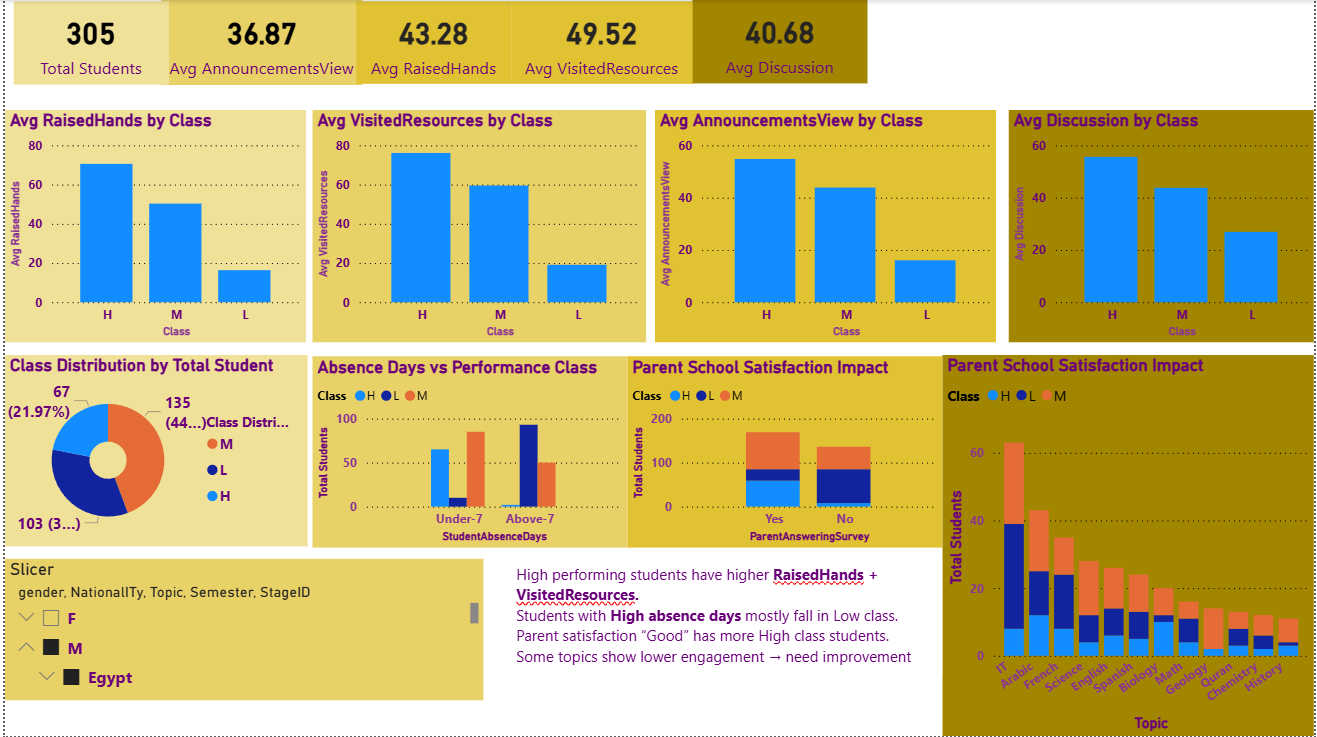

This screenshot's page, from the dashboard's own definition file:
{"tool":"powerbi","page":{"name":"Page 1","canvas":[1280,720],"ordinal":0},"visuals":[{"type":"card","fields":{"Values":["task 3 dataset.Avg AnnouncementsView"]},"box":[152.9,0,196.9,83.2],"z":0},{"type":"card","fields":{"Values":["task 3 dataset.Total Students"]},"box":[8.6,1.2,151.6,81.9],"z":1000},{"type":"card","fields":{"Values":["task 3 dataset.Avg RaisedHands"]},"box":[343.6,1.2,151.6,80.7],"z":2000},{"type":"card","fields":{"Values":["task 3 dataset.Avg VisitedResources"]},"box":[495.2,1.2,177.3,80.7],"z":3000},{"type":"card","fields":{"Values":["task 3 dataset.Avg Discussion"]},"box":[672.6,0,171.2,81.9],"z":4000},{"type":"columnChart","fields":{"Y":["task 3 dataset.Avg RaisedHands"],"Category":["task 3 dataset.Class"]},"box":[0,107.6,294.7,227.4],"z":5000},{"type":"columnChart","fields":{"Y":["task 3 dataset.Avg VisitedResources"],"Category":["task 3 dataset.Class"]},"box":[300.8,107.6,326.5,227.4],"z":7000},{"type":"columnChart","fields":{"Y":["task 3 dataset.Avg AnnouncementsView"],"Category":["task 3 dataset.Class"]},"box":[635.9,107.6,333.8,227.4],"z":8000},{"type":"columnChart","fields":{"Y":["task 3 dataset.Avg Discussion"],"Category":["task 3 dataset.Class"]},"box":[981.9,107.6,298.4,227.4],"z":9000},{"type":"clusteredColumnChart","title":"Absence Days vs Performance Class","fields":{"Category":["task 3 dataset.StudentAbsenceDays"],"Series":["task 3 dataset.Class"],"Y":["task 3 dataset.Total Students"]},"box":[300.8,348.5,308.2,187.1],"z":10000},{"type":"columnChart","title":"Parent School Satisfaction Impact","fields":{"Category":["task 3 dataset.ParentAnsweringSurvey"],"Series":["task 3 dataset.Class"],"Y":["task 3 dataset.Total Students"]},"box":[609,348.5,308.2,187.1],"z":11000},{"type":"columnChart","title":"Parent School Satisfaction Impact","fields":{"Category":["task 3 dataset.Topic"],"Y":["task 3 dataset.Total Students"],"Series":["task 3 dataset.Class"]},"box":[917.1,347.3,363.2,373],"z":12000},{"type":"donutChart","title":"Class Distribution by Total Student","fields":{"Category":["task 3 dataset.Class"],"Y":["task 3 dataset.Total Students"]},"box":[0,347.3,295.9,187.1],"z":12500},{"type":"slicer","title":"Slicer","fields":{"Values":["task 3 dataset.gender","task 3 dataset.NationalITy","task 3 dataset.Topic","task 3 dataset.Semester","task 3 dataset.StageID"]},"box":[0,546.6,468.3,138.2],"z":12501},{"type":"textbox","box":[495.2,546.6,421.9,113.7],"z":12502}]}

Visuals, with their boxes in screenshot pixels (x1, y1, x2, y2), scaled from the page's 1280x720 canvas onto the 1317x737 screenshot:
card - task 3 dataset.Avg AnnouncementsView: <bbox>157, 0, 360, 85</bbox>
card - task 3 dataset.Total Students: <bbox>9, 1, 165, 85</bbox>
card - task 3 dataset.Avg RaisedHands: <bbox>354, 1, 510, 84</bbox>
card - task 3 dataset.Avg VisitedResources: <bbox>510, 1, 692, 84</bbox>
card - task 3 dataset.Avg Discussion: <bbox>692, 0, 868, 84</bbox>
columnChart - task 3 dataset.Avg RaisedHands x task 3 dataset.Class: <bbox>0, 110, 303, 343</bbox>
columnChart - task 3 dataset.Avg VisitedResources x task 3 dataset.Class: <bbox>309, 110, 645, 343</bbox>
columnChart - task 3 dataset.Avg AnnouncementsView x task 3 dataset.Class: <bbox>654, 110, 998, 343</bbox>
columnChart - task 3 dataset.Avg Discussion x task 3 dataset.Class: <bbox>1010, 110, 1316, 343</bbox>
"Absence Days vs Performance Class" clusteredColumnChart: <bbox>309, 357, 627, 548</bbox>
"Parent School Satisfaction Impact" columnChart: <bbox>627, 357, 944, 548</bbox>
"Parent School Satisfaction Impact" columnChart: <bbox>944, 356, 1316, 736</bbox>
"Class Distribution by Total Student" donutChart: <bbox>0, 356, 304, 547</bbox>
"Slicer" slicer: <bbox>0, 560, 482, 701</bbox>
textbox: <bbox>510, 560, 944, 676</bbox>
